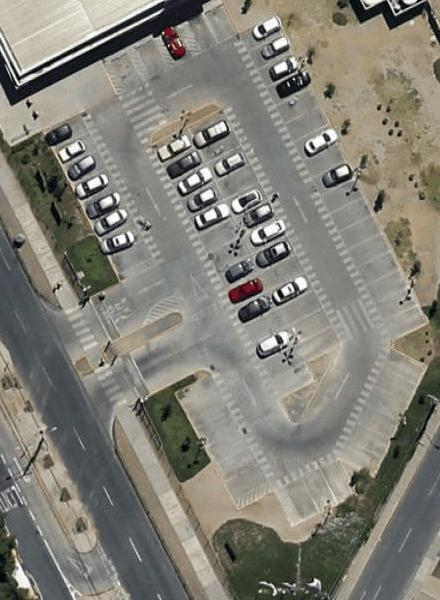parkingspot: (237, 15, 431, 343), (149, 127, 317, 402), (185, 106, 344, 365), (43, 112, 155, 276), (175, 372, 271, 503), (337, 346, 429, 479), (281, 457, 358, 523), (184, 2, 242, 56), (108, 51, 147, 95), (133, 37, 172, 80), (160, 24, 197, 68)
